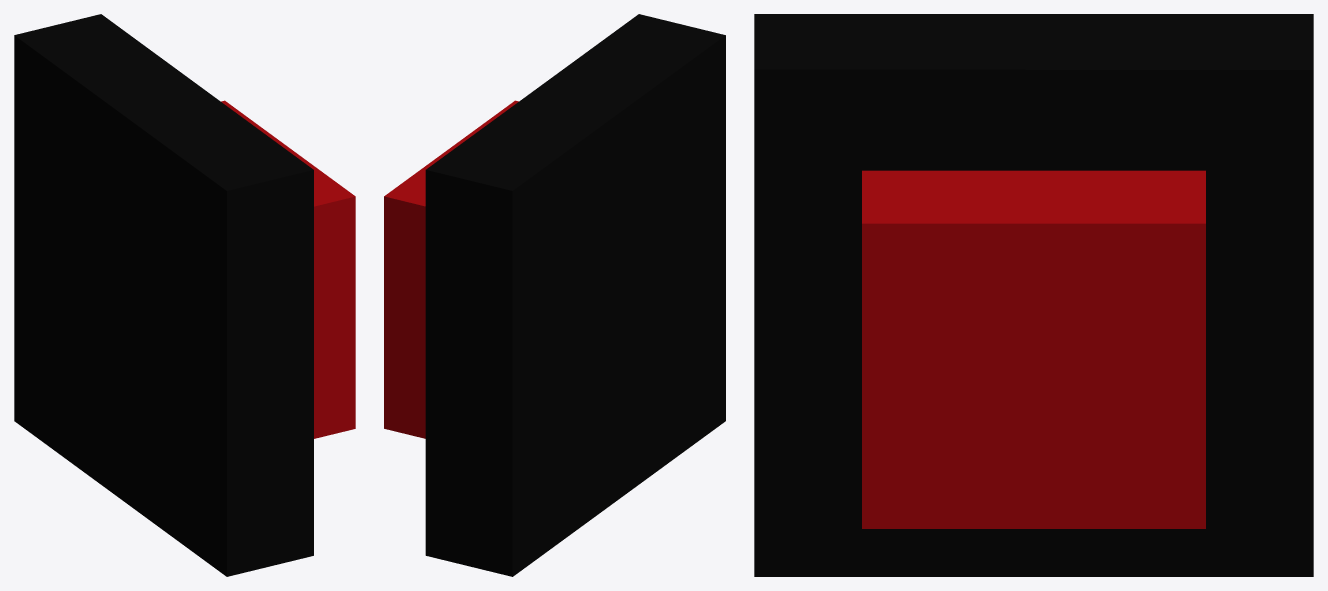
Rendered from Button.fbx.
3 renders of one model, left to right at view 1: azimuth 30°, elevation 25°; view 2: azimuth 150°, elevation 25°; view 3: azimuth 270°, elevation 25°, orthographic. The views are drawn at different scales.
Parts seen in each view (by area): view 1: Button; view 2: Button; view 3: Button.
Boxes of the visible parts, x1,y1,x2,y2 form: Button: (14, 14, 355, 576); Button: (384, 14, 725, 576); Button: (754, 14, 1313, 576).
Bounding box in the file's own units: 64.5 × 140 × 140.
